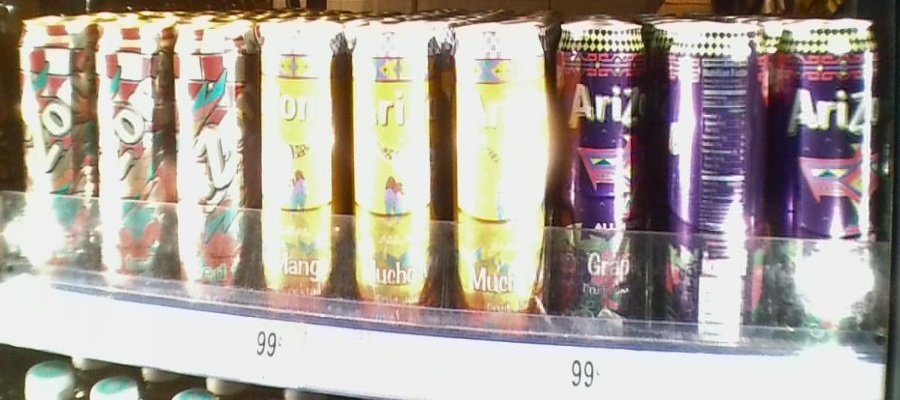bottle: (652, 12, 767, 352), (774, 4, 878, 352), (445, 4, 553, 336), (554, 4, 649, 342), (347, 12, 441, 327), (258, 6, 344, 324), (95, 8, 177, 302), (177, 13, 255, 313), (13, 12, 93, 299)
